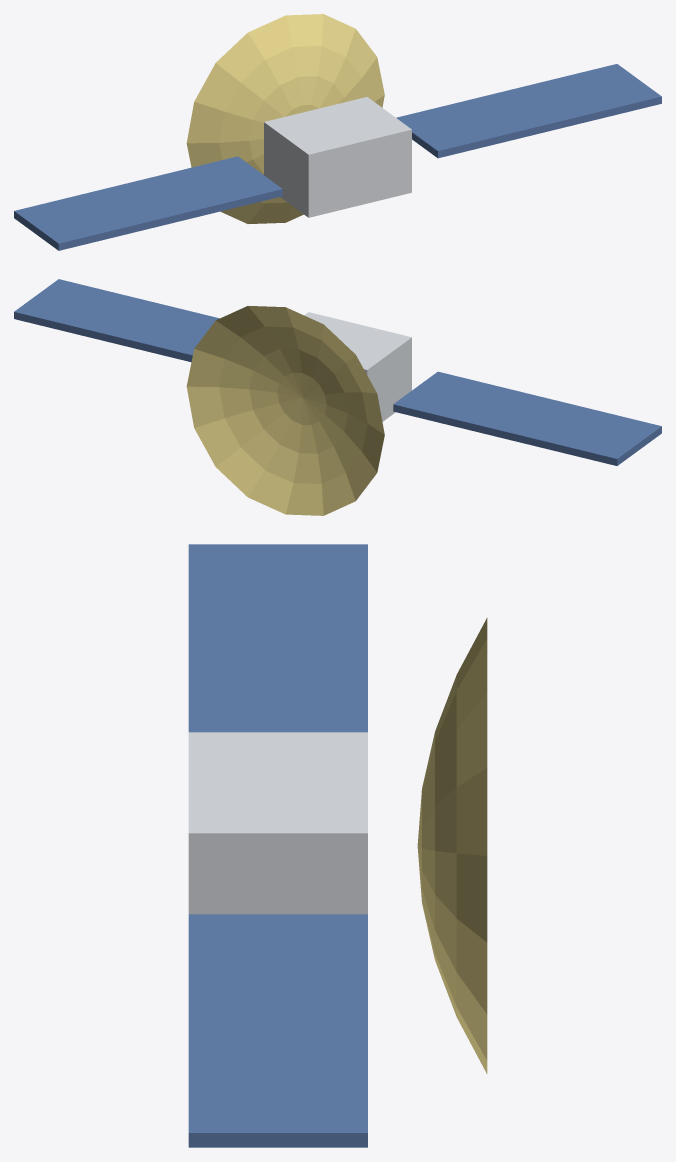
File: tdrs-relay.glb
The picture shows the model from 3 angles, top to bottom: view 1: azimuth 30°, elevation 25°; view 2: azimuth 150°, elevation 25°; view 3: azimuth 270°, elevation 25°; orthographic projection. The views are drawn at different scales.
Parts seen in each view (by area): view 1: tdrs-relay; view 2: tdrs-relay; view 3: tdrs-relay.
Part boxes in pixels (left/top/right/bottom): tdrs-relay: left=14, top=14, right=661, bottom=250; tdrs-relay: left=14, top=279, right=661, bottom=515; tdrs-relay: left=188, top=544, right=487, bottom=1147.
Size of the model in its own units: 7 by 2.3 by 1.5.
